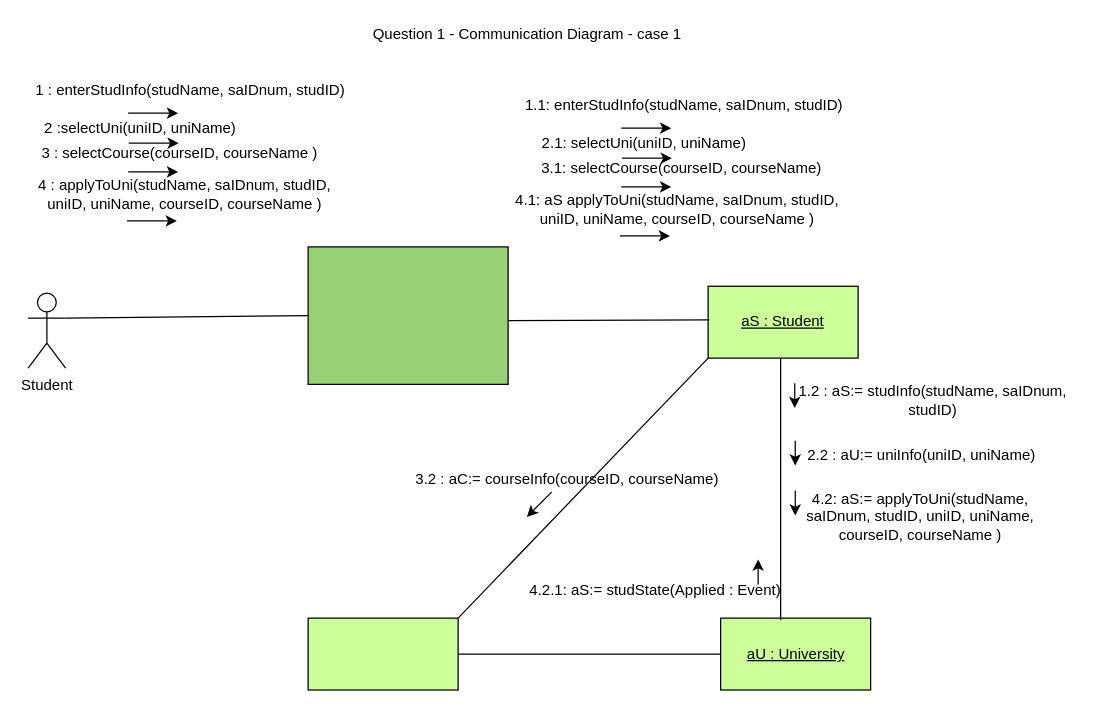
This 1093x711 diagram has some shape labels left out. The centre of each missing label's shape, as x and y in pixels:
<<controller>> StudentHandler: (407,315)
aC : Course: (382,653)
